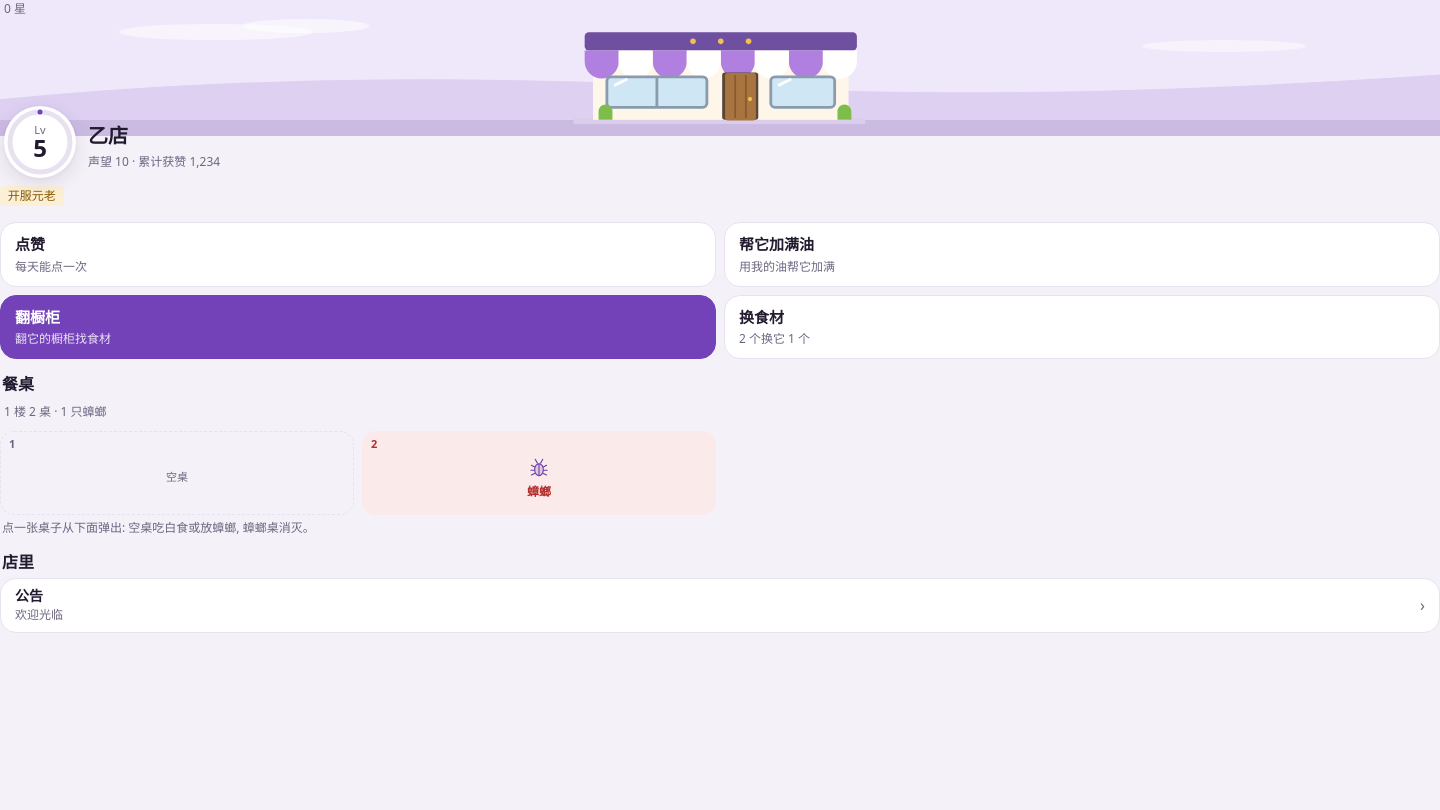
Scenario: FriendRestView › 不限（蟹老板的店）时不写剩几只
Step 1. Click the button with test id "table-2" → (539, 473), box [362,431,716,515]
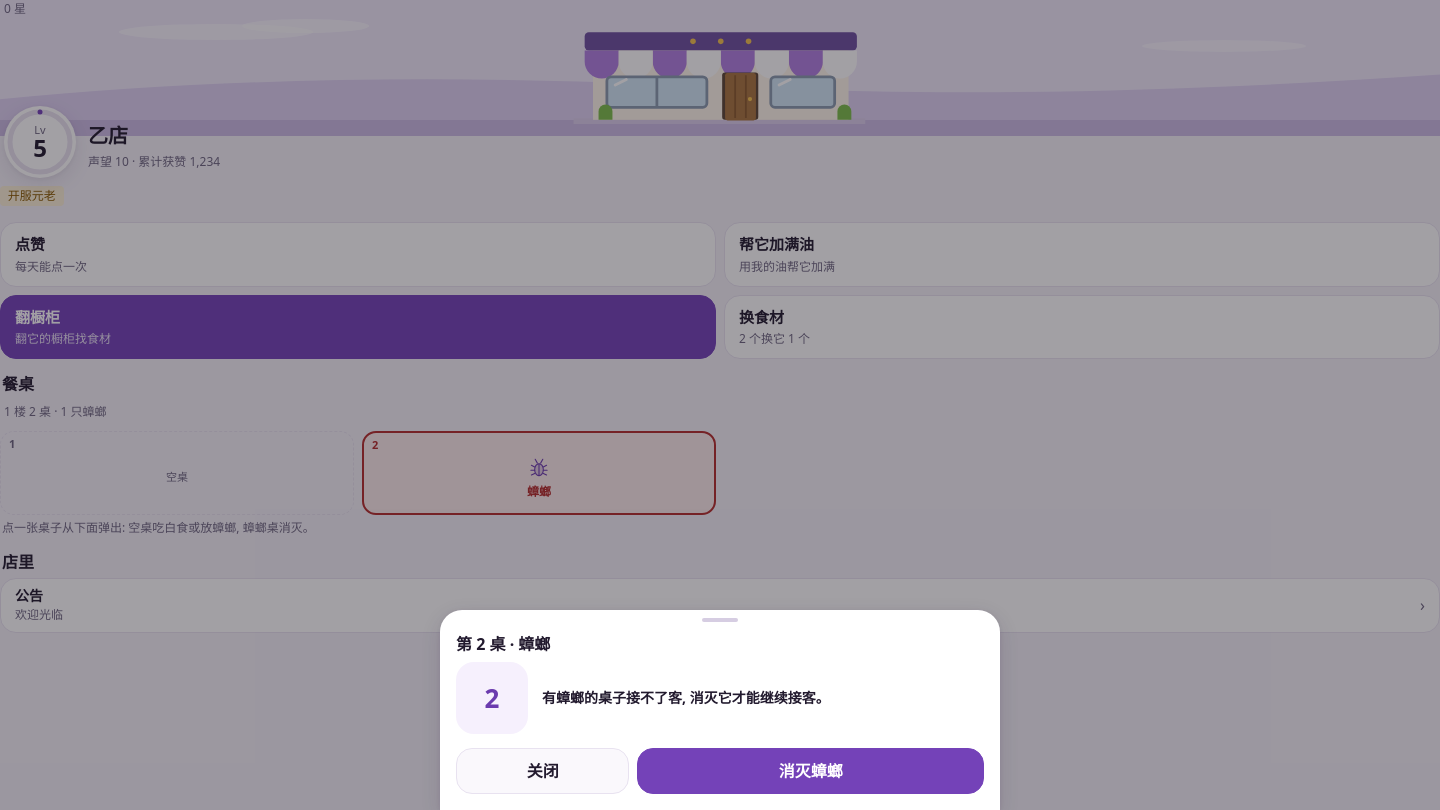
Check: the button with test id "act-kill" is shown, box [637,748,984,794]
